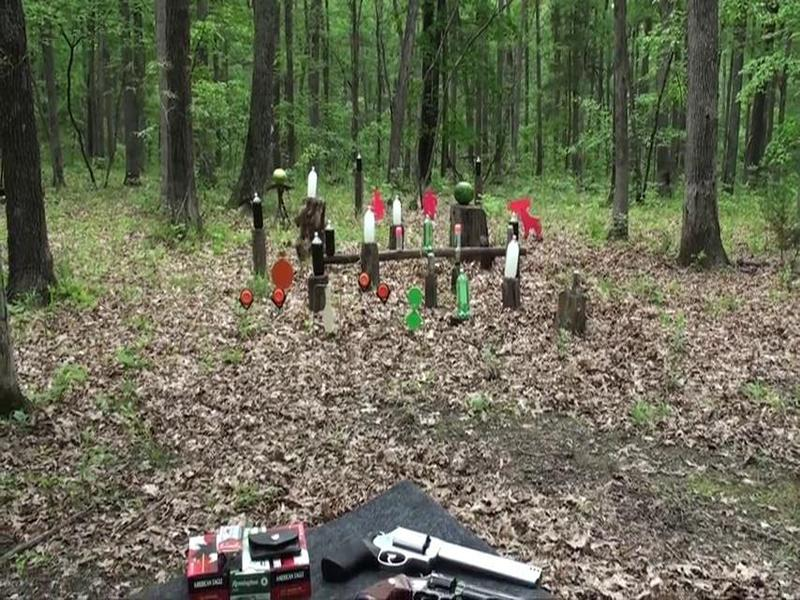Revolver: (314, 507, 537, 600)
